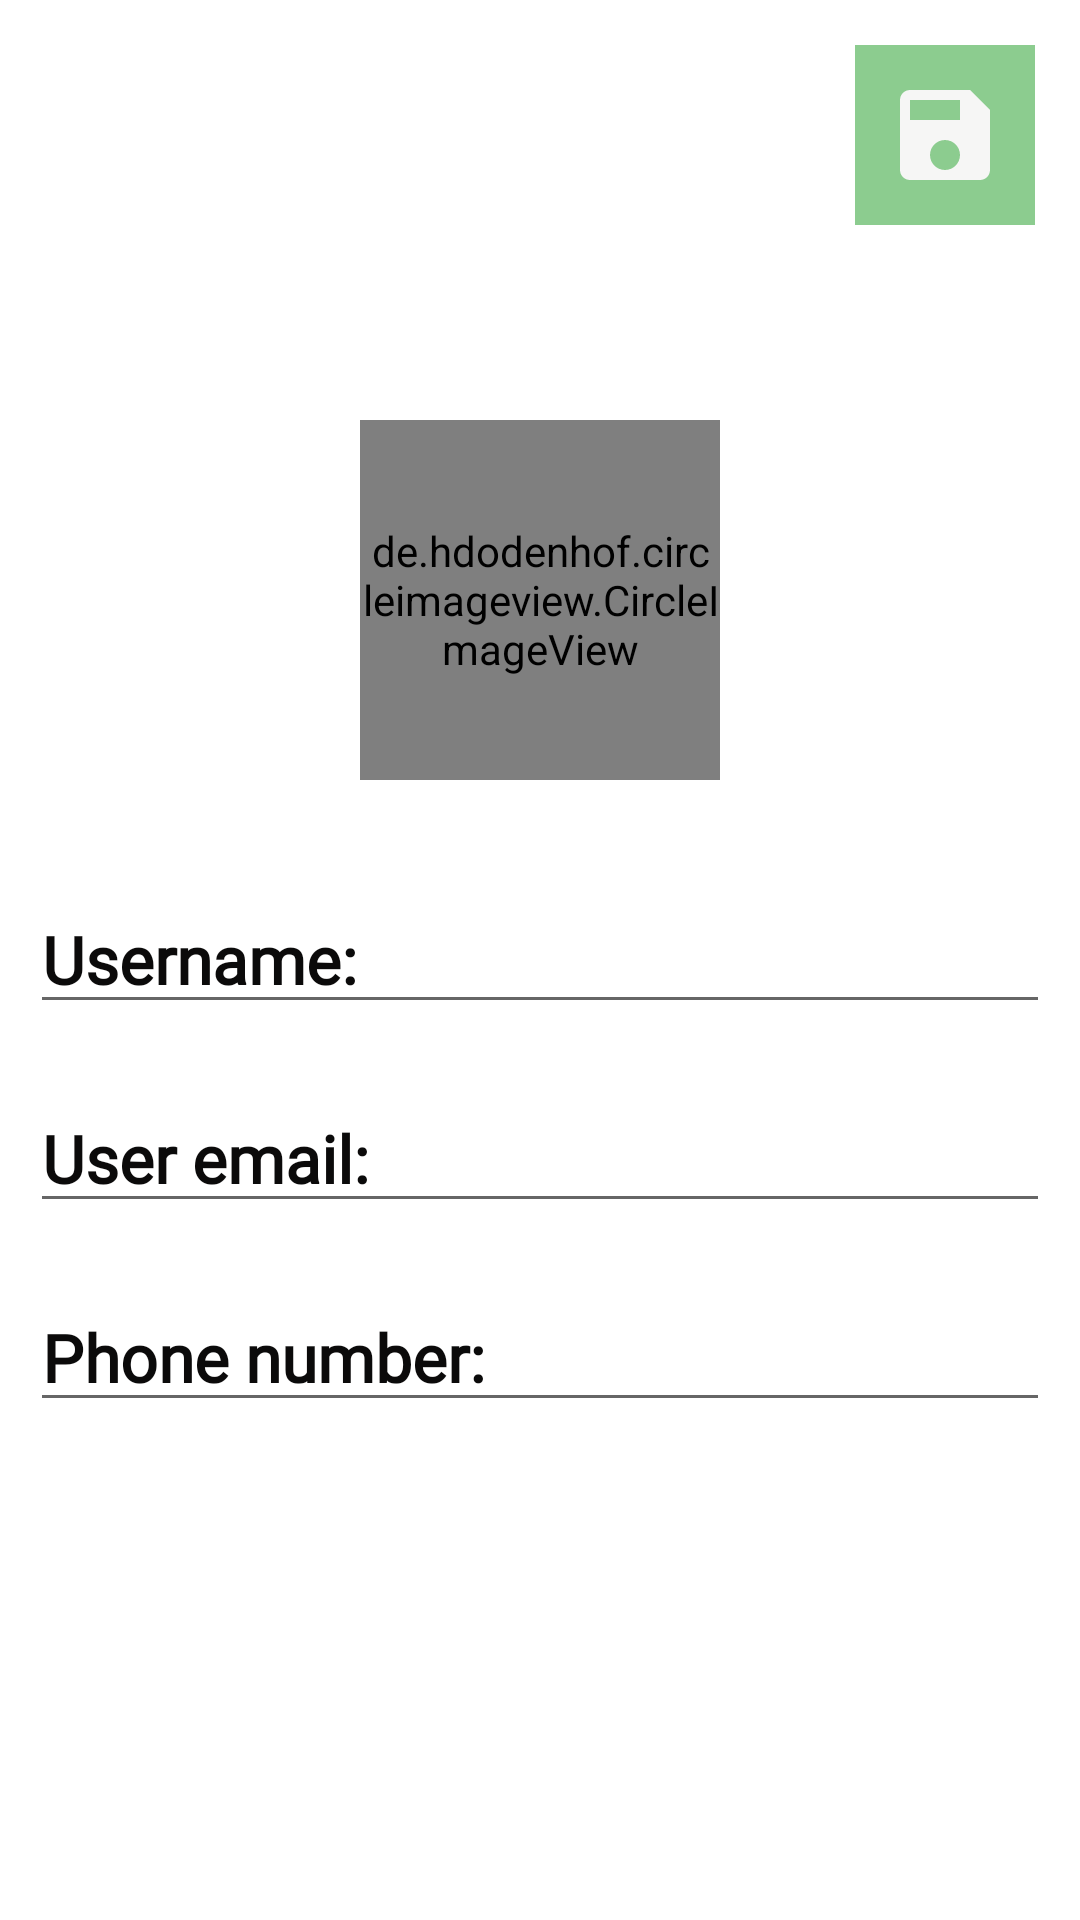

Named icons in this screenshot (1080px x 1920px) and their bounding boxes, (x1, y1, x2, y2):
save: (855, 45, 1035, 225)
